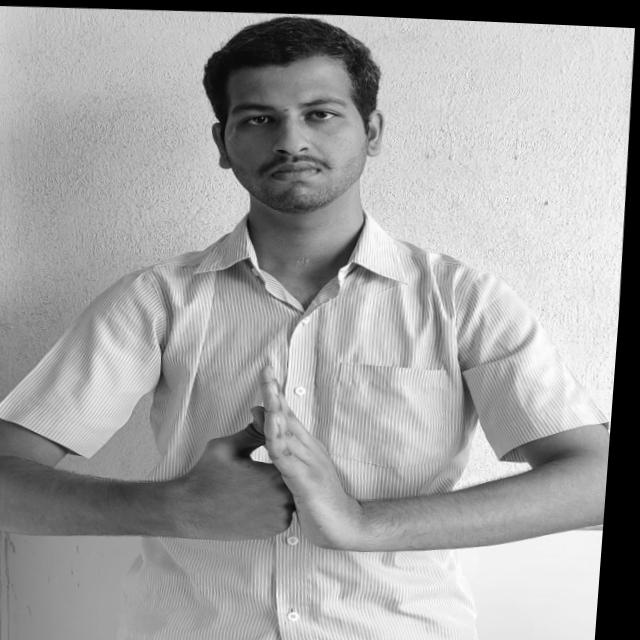Well Done: (187, 356, 363, 556)
